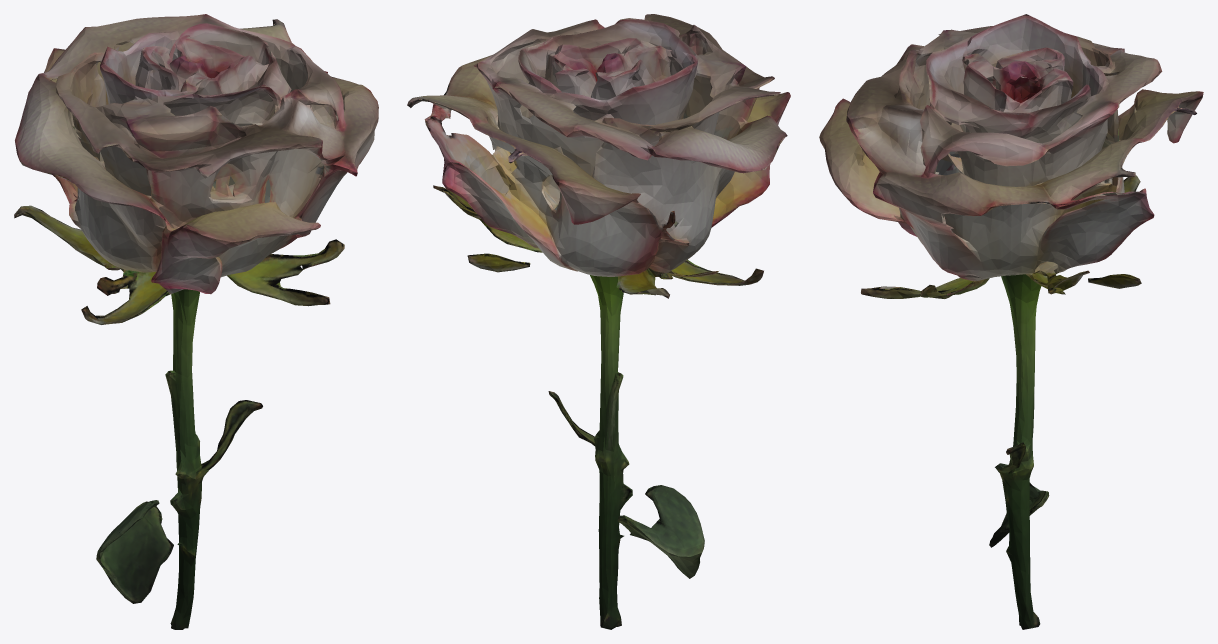
3 renders of one model, left to right at view 1: azimuth 30°, elevation 25°; view 2: azimuth 150°, elevation 25°; view 3: azimuth 270°, elevation 25°, orthographic.
Visible parts, largest first — view 1: world; view 2: world; view 3: world.
Boxes of the visible parts, x1,y1,x2,y2 form: world: (14,14,378,629); world: (407,14,790,629); world: (819,14,1203,629).
Size of the model in its own units: 0.5443 by 0.9166 by 0.5539.
1 material, 1 textured.
